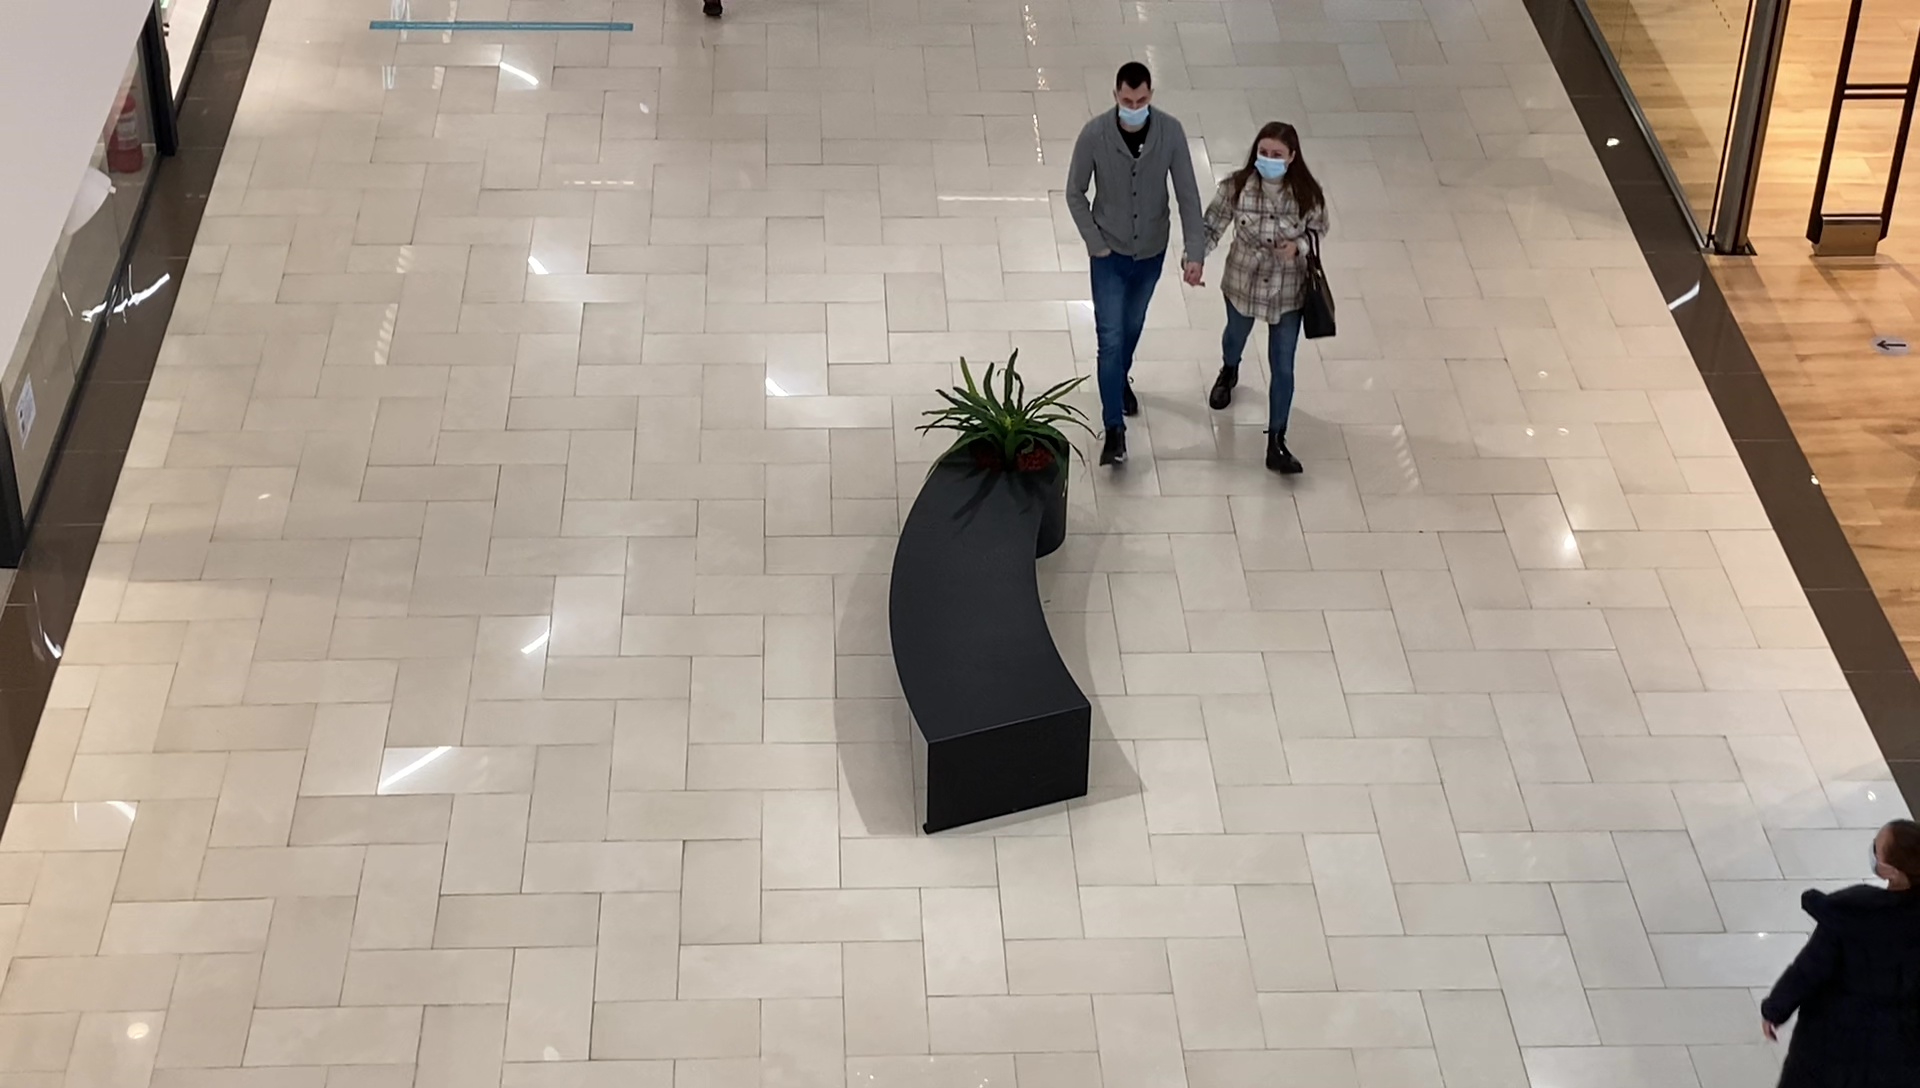person: (1065, 62, 1201, 466), (1202, 122, 1334, 474), (1759, 819, 1920, 1085)
